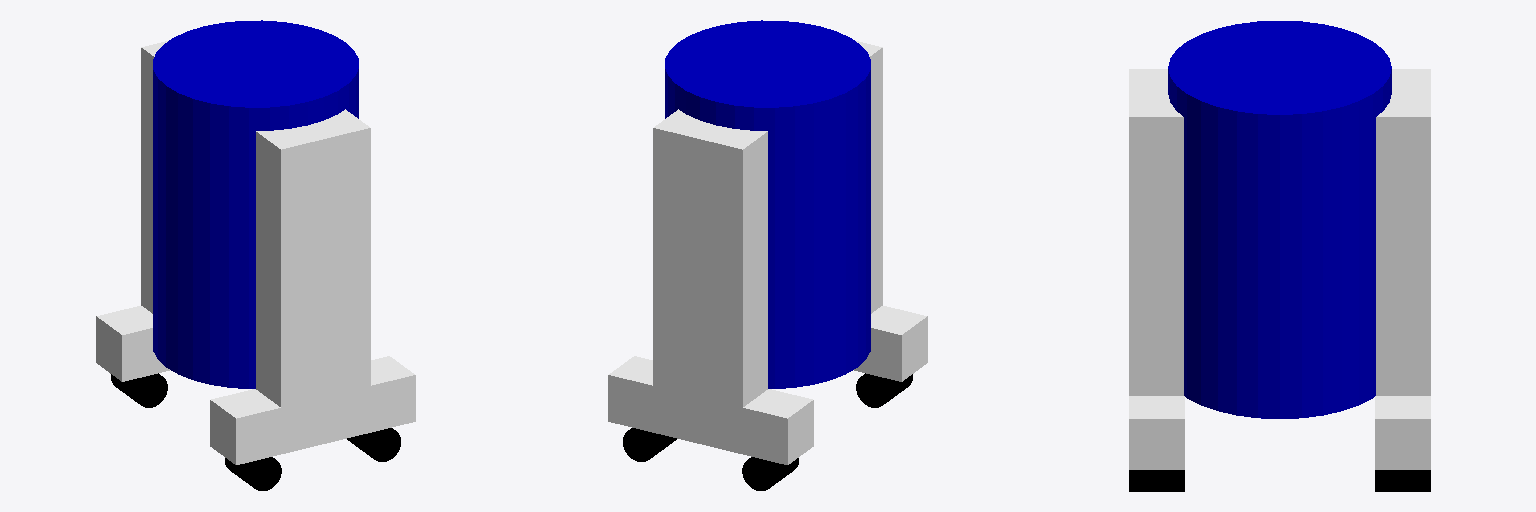
URDF robot description (r3d4):
<?xml version="1.0"?>
<robot name="r3d4">
  <material name="blue">
    <color rgba="0 0 0.8 1"/>
  </material>
  <material name="black">
    <color rgba="0 0 0 1"/>
  </material>
  <material name="white">
    <color rgba="1 1 1 1"/>
  </material>

  <link name="base_link">
    <visual>
      <geometry>
        <cylinder length="0.6" radius="0.2"/>
      </geometry>
      <material name="blue"/>
    </visual>
    <collision>
      <geometry>
        <cylinder length="0.6" radius="0.2"/>
      </geometry>
    </collision>
    <inertial>
      <mass value="10"/>
      <inertia ixx="1.0" ixy="0.0" ixz="0.0" iyy="1.0" iyz="0.0" izz="1.0"/>
    </inertial>
  </link>

  <link name="right_leg">
    <visual>
      <geometry>
        <box size="0.6 0.1 0.2"/>
      </geometry>
      <origin rpy="0 1.57075 0" xyz="0 0 -0.3"/>
      <material name="white"/>
    </visual>
    <collision>
      <geometry>
        <box size="0.6 0.1 0.2"/>
      </geometry>
      <origin rpy="0 1.57075 0" xyz="0 0 -0.3"/>
    </collision>
    <inertial>
      <mass value="10"/>
      <inertia ixx="1.0" ixy="0.0" ixz="0.0" iyy="1.0" iyz="0.0" izz="1.0"/>
    </inertial>
  </link>
  <joint name="base_to_right_leg" type="fixed">
    <parent link="base_link"/>
    <child link="right_leg"/>
    <origin xyz="0 -0.22 0.25"/>
  </joint>
  <link name="right_base">
    <visual>
      <geometry>
        <box size="0.4 0.1 0.1"/>
      </geometry>
      <material name="white"/>
    </visual>
    <collision>
      <geometry>
        <box size="0.4 0.1 0.1"/>
      </geometry>
    </collision>
    <inertial>
      <mass value="10"/>
      <inertia ixx="1.0" ixy="0.0" ixz="0.0" iyy="1.0" iyz="0.0" izz="1.0"/>
    </inertial>
  </link>

  <joint name="right_base_joint" type="fixed">
    <parent link="right_leg"/>
    <child link="right_base"/>
    <origin xyz="0 0 -0.6"/>
  </joint>

  <link name="right_front_wheel">
    <visual>
      <origin rpy="1.57075 0 0" xyz="0 0 0"/>
      <geometry>
        <cylinder length="0.1" radius="0.035"/>
      </geometry>
      <material name="black"/>
    </visual>
    <collision>
      <origin rpy="1.57075 0 0" xyz="0 0 0"/>
      <geometry>
        <cylinder length="0.1" radius="0.035"/>
      </geometry>
    </collision>
    <inertial>
      <mass value="1"/>
      <inertia ixx="1.0" ixy="0.0" ixz="0.0" iyy="1.0" iyz="0.0" izz="1.0"/>
    </inertial>
  </link>

  <joint name="right_front_wheel_joint" type="continuous">
    <axis rpy="0 0 0" xyz="0 1 0"/>
    <parent link="right_base"/>
    <child link="right_front_wheel"/>
    <origin rpy="0 0 0" xyz="0.133333333333 0 -0.085"/>
  </joint>

  <link name="right_back_wheel">
    <visual>
      <origin rpy="1.57075 0 0" xyz="0 0 0"/>
      <geometry>
        <cylinder length="0.1" radius="0.035"/>
      </geometry>
      <material name="black"/>
    </visual>
    <collision>
      <origin rpy="1.57075 0 0" xyz="0 0 0"/>
      <geometry>
        <cylinder length="0.1" radius="0.035"/>
      </geometry>
    </collision>
    <inertial>
      <mass value="1"/>
      <inertia ixx="1.0" ixy="0.0" ixz="0.0" iyy="1.0" iyz="0.0" izz="1.0"/>
    </inertial>
  </link>

  <joint name="right_back_wheel_joint" type="continuous">
    <axis rpy="0 0 0" xyz="0 1 0"/>
    <parent link="right_base"/>
    <child link="right_back_wheel"/>
    <origin rpy="0 0 0" xyz="-0.133333333333 0 -0.085"/>
  </joint>

  <link name="left_leg">
    <visual>
      <geometry>
        <box size="0.6 0.1 0.2"/>
      </geometry>
      <origin rpy="0 1.57075 0" xyz="0 0 -0.3"/>
      <material name="white"/>
    </visual>
    <collision>
      <geometry>
        <box size="0.6 0.1 0.2"/>
      </geometry>
      <origin rpy="0 1.57075 0" xyz="0 0 -0.3"/>
    </collision>
    <inertial>
      <mass value="10"/>
      <inertia ixx="1.0" ixy="0.0" ixz="0.0" iyy="1.0" iyz="0.0" izz="1.0"/>
    </inertial>
  </link>

  <joint name="base_to_left_leg" type="fixed">
    <parent link="base_link"/>
    <child link="left_leg"/>
    <origin xyz="0 0.22 0.25"/>
  </joint>

  <link name="left_base">
    <visual>
      <geometry>
        <box size="0.4 0.1 0.1"/>
      </geometry>
      <material name="white"/>
    </visual>
    <collision>
      <geometry>
        <box size="0.4 0.1 0.1"/>
      </geometry>
    </collision>
    <inertial>
      <mass value="10"/>
      <inertia ixx="1.0" ixy="0.0" ixz="0.0" iyy="1.0" iyz="0.0" izz="1.0"/>
    </inertial>
  </link>

  <joint name="left_base_joint" type="fixed">
    <parent link="left_leg"/>
    <child link="left_base"/>
    <origin xyz="0 0 -0.6"/>
  </joint>

  <link name="left_front_wheel">
    <visual>
      <origin rpy="1.57075 0 0" xyz="0 0 0"/>
      <geometry>
        <cylinder length="0.1" radius="0.035"/>
      </geometry>
      <material name="black"/>
    </visual>
    <collision>
      <origin rpy="1.57075 0 0" xyz="0 0 0"/>
      <geometry>
        <cylinder length="0.1" radius="0.035"/>
      </geometry>
    </collision>
    <inertial>
      <mass value="1"/>
      <inertia ixx="1.0" ixy="0.0" ixz="0.0" iyy="1.0" iyz="0.0" izz="1.0"/>
    </inertial>
  </link>

  <joint name="left_front_wheel_joint" type="continuous">
    <axis rpy="0 0 0" xyz="0 1 0"/>
    <parent link="left_base"/>
    <child link="left_front_wheel"/>
    <origin rpy="0 0 0" xyz="0.133333333333 0 -0.085"/>
  </joint>

  <link name="left_back_wheel">
    <visual>
      <origin rpy="1.57075 0 0" xyz="0 0 0"/>
      <geometry>
        <cylinder length="0.1" radius="0.035"/>
      </geometry>
      <material name="black"/>
    </visual>
    <collision>
      <origin rpy="1.57075 0 0" xyz="0 0 0"/>
      <geometry>
        <cylinder length="0.1" radius="0.035"/>
      </geometry>
    </collision>
    <inertial>
      <mass value="1"/>
      <inertia ixx="1.0" ixy="0.0" ixz="0.0" iyy="1.0" iyz="0.0" izz="1.0"/>
    </inertial>
  </link>

  <joint name="left_back_wheel_joint" type="continuous">
    <axis rpy="0 0 0" xyz="0 1 0"/>
    <parent link="left_base"/>
    <child link="left_back_wheel"/>
    <origin rpy="0 0 0" xyz="-0.133333333333 0 -0.085"/>
  </joint>

  <!-- hokuyo -->
  <gazebo reference="box">
    <sensor type="gpu_ray" name="head_hokuyo_sensor">
      <pose>0 0 0 0 0 0</pose>
      <visualize>false</visualize>
      <update_rate>40</update_rate>
      <ray>
        <scan>
          <horizontal>
            <samples>720</samples>
            <resolution>1</resolution>
            <min_angle>-1.570796</min_angle>
            <max_angle>1.570796</max_angle>
          </horizontal>
        </scan>
        <range>
          <min>0.10</min>
          <max>30.0</max>
          <resolution>0.01</resolution>
        </range>
        <noise>
          <type>gaussian</type>
          <!-- Noise parameters based on published spec for Hokuyo laser
               achieving "+-30mm" accuracy at range < 10m.  A mean of 0.0m and
               stddev of 0.01m will put 99.7% of samples within 0.03m of the true
               reading. -->
          <mean>0.0</mean>
          <stddev>0.01</stddev>
        </noise>
      </ray>
      <plugin name="gazebo_ros_head_hokuyo_controller" filename="libgazebo_ros_gpu_laser.so">
        <topicName>/rrbot/laser/scan</topicName>
        <frameName>hokuyo_link</frameName>
      </plugin>
    </sensor>
  </gazebo>

  <gazebo reference="r3d4_modal">
    <material>Gazebo/Blue</material>
  </gazebo>
</robot>

--- What the picture shows (computed from the rendered views, not written in the file) ---
The picture shows the robot from 3 angles, left to right: view 1: azimuth 30°, elevation 25°; view 2: azimuth 150°, elevation 25°; view 3: azimuth 270°, elevation 25°; orthographic projection.
Model r3d4 with 9 links and 8 joints (4 continuous, 4 fixed), rooted at base_link, posed every joint at zero.
Visible links, largest first — view 1: base_link, right_leg, right_base, left_base, left_leg, left_back_wheel, right_back_wheel, right_front_wheel; view 2: base_link, left_leg, left_base, right_base, right_leg, right_back_wheel, left_back_wheel, left_front_wheel; view 3: base_link, right_leg, left_leg, right_base, left_base, right_front_wheel, left_front_wheel.
Link boxes in pixels (<box>): base_link: <box>153,20,358,388</box>; right_leg: <box>256,109,370,429</box>; right_base: <box>210,356,415,464</box>; left_base: <box>96,306,169,381</box>; left_leg: <box>141,41,167,313</box>; left_back_wheel: <box>111,373,167,407</box>; right_back_wheel: <box>225,457,281,490</box>; right_front_wheel: <box>347,428,400,461</box>; base_link: <box>665,20,870,388</box>; left_leg: <box>653,109,767,430</box>; left_base: <box>608,356,813,464</box>; right_base: <box>854,306,927,381</box>; right_leg: <box>856,41,882,313</box>; right_back_wheel: <box>856,373,912,407</box>; left_back_wheel: <box>742,457,798,490</box>; left_front_wheel: <box>623,428,676,461</box>; base_link: <box>1168,21,1391,418</box>; right_leg: <box>1129,69,1183,395</box>; left_leg: <box>1376,69,1430,395</box>; right_base: <box>1129,396,1184,469</box>; left_base: <box>1375,396,1430,469</box>; right_front_wheel: <box>1129,470,1184,491</box>; left_front_wheel: <box>1375,470,1430,491</box>.
Size in the robot's own frame: 0.4 by 0.54 by 0.77 metres.
Geometry: primitives only (box / cylinder / sphere), no mesh files.